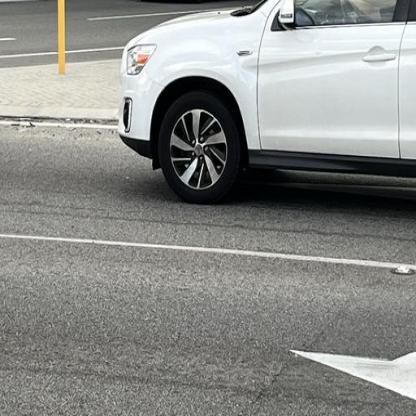Tire: (160, 92, 242, 204)
